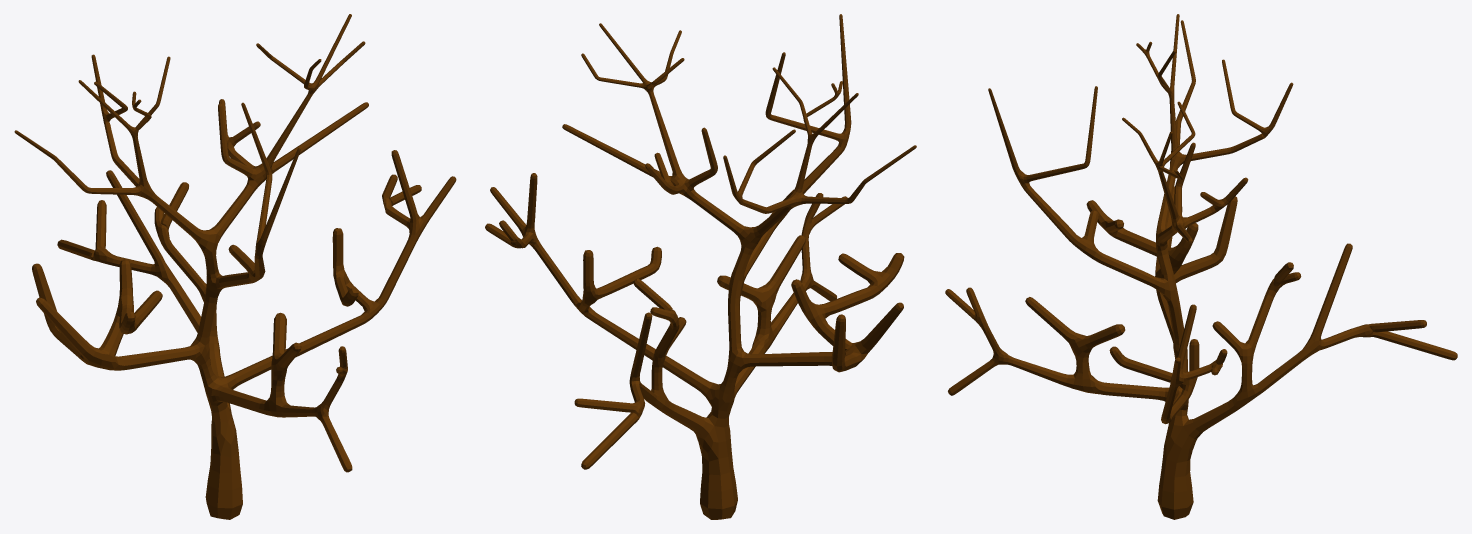
Rendered from Tree_V2.2_Trunk.gltf.
3 renders of one model, left to right at view 1: azimuth 30°, elevation 25°; view 2: azimuth 150°, elevation 25°; view 3: azimuth 270°, elevation 25°, orthographic. The views are drawn at different scales.
Parts seen in each view (by area): view 1: Tree; view 2: Tree; view 3: Tree.
Boxes of the visible parts, left/top/right/bottom form: Tree: left=14, top=14, right=456, bottom=519; Tree: left=485, top=14, right=916, bottom=519; Tree: left=945, top=14, right=1457, bottom=519.
Bounding box in the file's own units: 3.8 × 3.94 × 4.13.
1 material, 1 textured.
